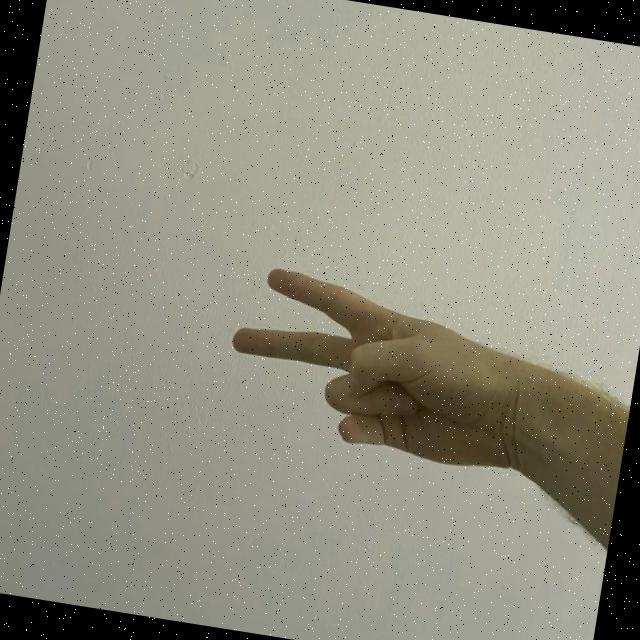scissors: (212, 260, 582, 487)
